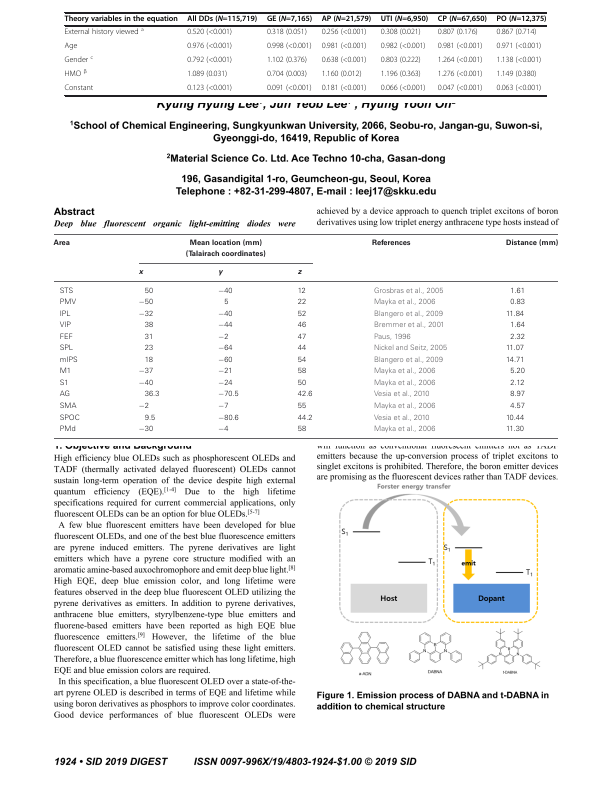borderless: (53, 233, 558, 438), (63, 11, 546, 95)
cell: (185, 239, 267, 259), (64, 15, 179, 24), (63, 26, 145, 38), (373, 344, 448, 353), (186, 15, 258, 24), (373, 322, 445, 331), (373, 287, 444, 296), (373, 310, 444, 319), (373, 356, 444, 365), (373, 379, 436, 388), (373, 402, 436, 411), (373, 425, 436, 434), (373, 391, 430, 400), (373, 414, 430, 423), (373, 299, 436, 307), (373, 368, 436, 376), (186, 28, 233, 38), (186, 42, 233, 52), (495, 42, 542, 52), (186, 56, 233, 66), (495, 56, 542, 66), (186, 84, 233, 94), (495, 84, 542, 94), (495, 15, 547, 24), (321, 28, 367, 38), (266, 42, 312, 52), (321, 42, 367, 52), (380, 42, 426, 52), (437, 42, 483, 52), (321, 56, 367, 66), (437, 56, 483, 66), (437, 70, 483, 80), (266, 84, 312, 94), (321, 84, 367, 94), (380, 84, 426, 94), (437, 84, 483, 94), (321, 15, 372, 24), (437, 15, 488, 24), (380, 15, 429, 24), (505, 239, 559, 247), (266, 15, 313, 24), (266, 28, 308, 38), (380, 28, 422, 38), (437, 28, 479, 38), (495, 28, 537, 38), (266, 56, 308, 66), (380, 56, 422, 66), (186, 70, 228, 80), (266, 70, 308, 80), (380, 70, 422, 80), (495, 70, 537, 80), (321, 70, 362, 80), (64, 54, 94, 66), (373, 333, 412, 342), (371, 239, 412, 247), (64, 84, 94, 94), (64, 68, 88, 80), (217, 391, 240, 400), (217, 414, 240, 423), (59, 414, 81, 423), (505, 310, 525, 319), (505, 344, 525, 353), (59, 356, 79, 365), (505, 356, 525, 365), (505, 414, 525, 423), (505, 425, 525, 434), (59, 402, 77, 411), (59, 425, 77, 434), (217, 287, 234, 296), (509, 287, 526, 296), (217, 310, 234, 319), (217, 322, 234, 331), (509, 322, 526, 331), (509, 333, 526, 342), (217, 344, 234, 353), (217, 356, 234, 365), (217, 368, 234, 377), (217, 379, 234, 388), (509, 391, 526, 400), (509, 402, 526, 411), (52, 239, 71, 247), (59, 299, 77, 307), (138, 310, 154, 319), (138, 368, 154, 377), (138, 379, 154, 388), (509, 379, 525, 388), (144, 391, 160, 400), (297, 391, 313, 400), (297, 414, 313, 423), (138, 425, 154, 434), (64, 42, 78, 52), (509, 299, 526, 307), (509, 368, 526, 376), (59, 287, 74, 296), (59, 333, 74, 342), (59, 344, 74, 353), (138, 299, 154, 307), (59, 310, 72, 319), (59, 322, 72, 331), (59, 368, 72, 377), (217, 333, 229, 342), (59, 391, 71, 400), (138, 402, 150, 411), (217, 402, 229, 411), (144, 414, 156, 423), (217, 425, 229, 434), (144, 287, 154, 296), (297, 287, 307, 296), (297, 310, 307, 319), (144, 322, 154, 331), (297, 322, 307, 331), (144, 333, 154, 342), (297, 333, 307, 342), (144, 344, 154, 353), (297, 344, 307, 353), (144, 356, 154, 365), (297, 356, 307, 365), (297, 368, 307, 377), (59, 379, 69, 388), (297, 379, 307, 388), (297, 402, 307, 411), (297, 425, 307, 434), (297, 299, 307, 307), (223, 299, 229, 307), (138, 270, 144, 277), (217, 270, 223, 277), (297, 270, 302, 277)
